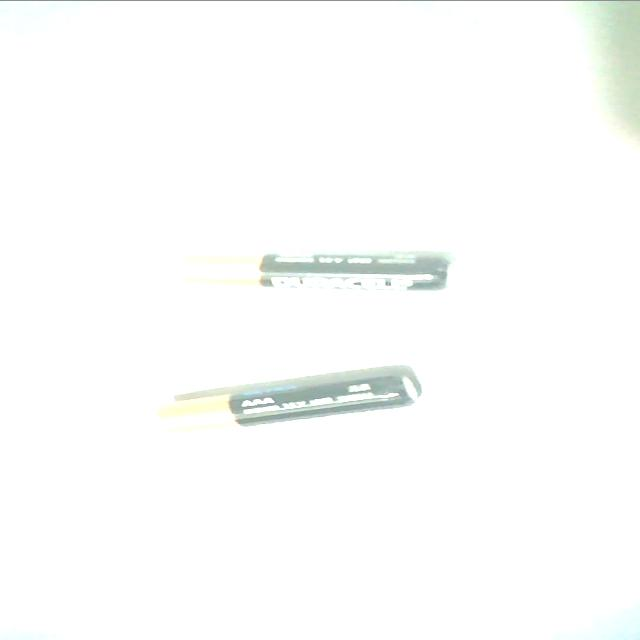AAA: (150, 364, 426, 438), (168, 242, 460, 296)
